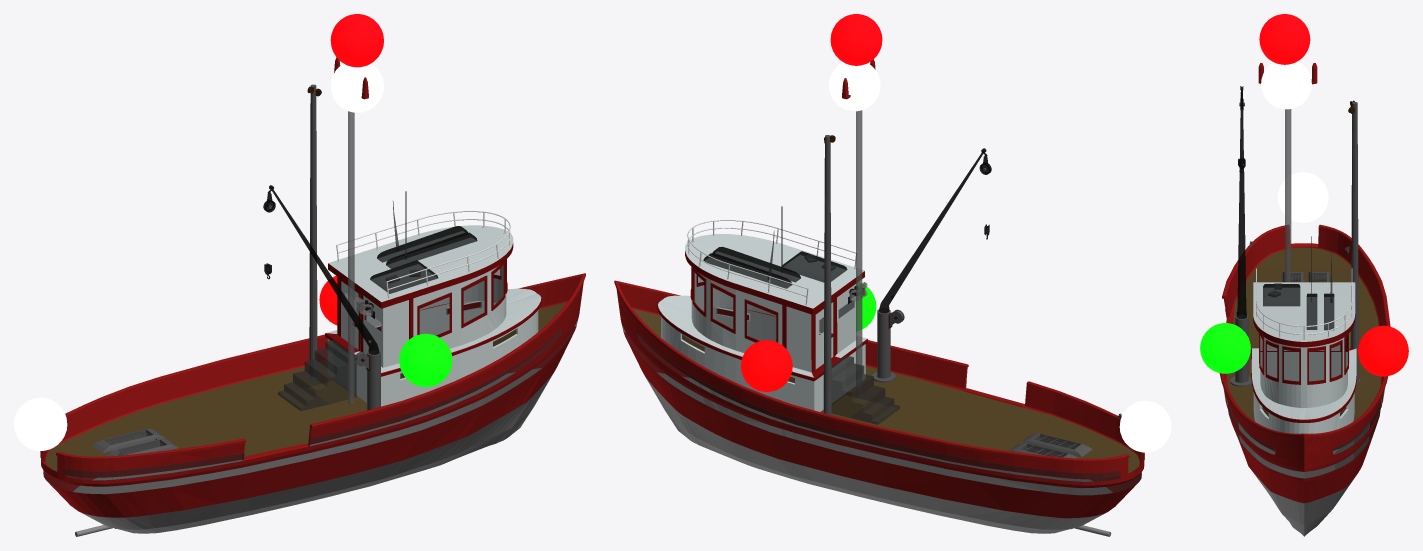
File: VEIF.glb
3 renders of one model, left to right at view 1: azimuth 30°, elevation 25°; view 2: azimuth 150°, elevation 25°; view 3: azimuth 270°, elevation 25°, orthographic. The views are drawn at different scales.
Parts seen in each view (by area): view 1: boat_fishing_02.011, boat_fishing_02.013, Cube.005, SG light, STRN light, RAR light, boat_fishing_02.050, WAR light, Cylinder.002, Cube, boat_fishing_02.056, Cube.004 (+3 smaller); view 2: boat_fishing_02.011, boat_fishing_02.013, Cube.005, RAR light, SR light, STRN light, boat_fishing_02.050, Cylinder.002, WAR light, boat_fishing_02.056, boat_fishing_02.009, Cube (+4 smaller); view 3: boat_fishing_02.011, boat_fishing_02.013, SG light, SR light, RAR light, STRN light, WAR light, boat_fishing_02.050, boat_fishing_02.056, Cylinder.002, Cube, boat_fishing_02.009 (+3 smaller).
Boxes of the visible parts, bbox=[...] form: boat_fishing_02.011: bbox=[40, 273, 585, 533]; boat_fishing_02.013: bbox=[325, 225, 541, 406]; Cube.005: bbox=[278, 340, 356, 411]; SG light: bbox=[399, 333, 452, 387]; STRN light: bbox=[14, 397, 67, 450]; RAR light: bbox=[330, 14, 383, 67]; boat_fishing_02.050: bbox=[308, 84, 318, 379]; WAR light: bbox=[330, 63, 383, 112]; Cylinder.002: bbox=[348, 111, 354, 404]; Cube: bbox=[370, 260, 438, 293]; boat_fishing_02.056: bbox=[267, 190, 379, 354]; Cube.004: bbox=[386, 232, 477, 268]; boat_fishing_02.011: bbox=[614, 280, 1144, 533]; boat_fishing_02.013: bbox=[657, 234, 867, 411]; Cube.005: bbox=[823, 355, 899, 424]; RAR light: bbox=[830, 14, 882, 65]; SR light: bbox=[741, 340, 792, 391]; STRN light: bbox=[1119, 400, 1171, 452]; boat_fishing_02.050: bbox=[823, 135, 831, 414]; Cylinder.002: bbox=[856, 110, 862, 393]; WAR light: bbox=[829, 62, 880, 111]; boat_fishing_02.056: bbox=[878, 153, 987, 313]; boat_fishing_02.009: bbox=[872, 309, 895, 382]; Cube: bbox=[782, 251, 847, 282]; boat_fishing_02.011: bbox=[1219, 224, 1390, 536]; boat_fishing_02.013: bbox=[1251, 282, 1356, 452]; SG light: bbox=[1200, 323, 1250, 373]; SR light: bbox=[1358, 325, 1408, 376]; RAR light: bbox=[1259, 14, 1310, 64]; STRN light: bbox=[1277, 172, 1328, 222]; WAR light: bbox=[1261, 61, 1311, 109]; boat_fishing_02.050: bbox=[1351, 102, 1360, 383]; boat_fishing_02.056: bbox=[1236, 89, 1246, 318]; Cylinder.002: bbox=[1285, 109, 1291, 282]; Cube: bbox=[1263, 284, 1300, 306]; boat_fishing_02.009: bbox=[1230, 314, 1251, 386].
Bounding box in the file's own units: 34.42 × 27.51 × 11.49.
